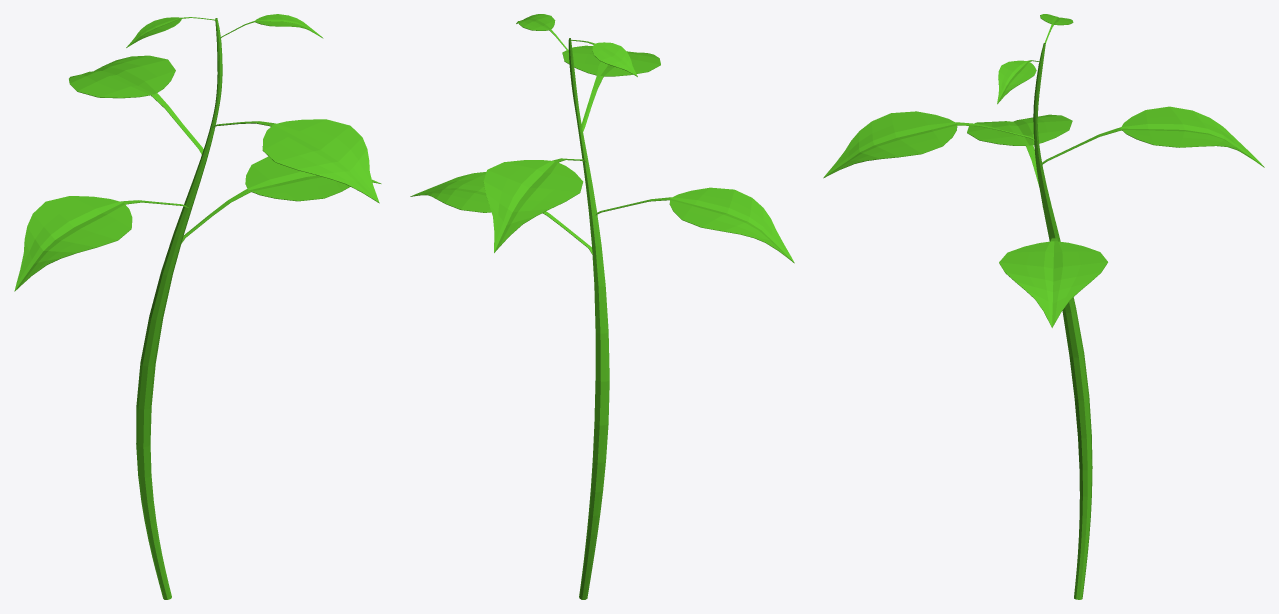
The model's file is soybeans1.fbx.
3 renders of one model, left to right at view 1: azimuth 30°, elevation 25°; view 2: azimuth 150°, elevation 25°; view 3: azimuth 270°, elevation 25°, orthographic. The views are drawn at different scales.
Visible parts, largest first — view 1: soy beans stage 1; view 2: soy beans stage 1; view 3: soy beans stage 1.
Boxes of the visible parts, x1,y1,x2,y2 form: soy beans stage 1: (14,14,381,599); soy beans stage 1: (410,14,794,599); soy beans stage 1: (823,14,1264,599).
Bounding box in the file's own units: 32.39 × 46.65 × 32.43.
